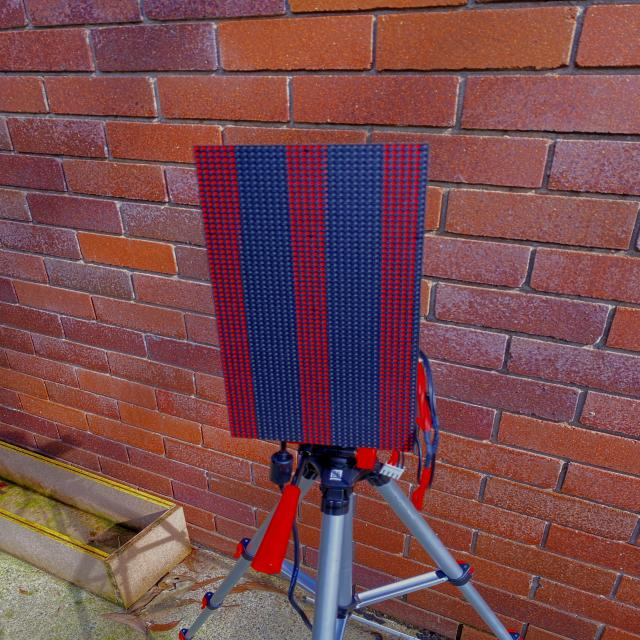matrix: (188, 145, 432, 453)
